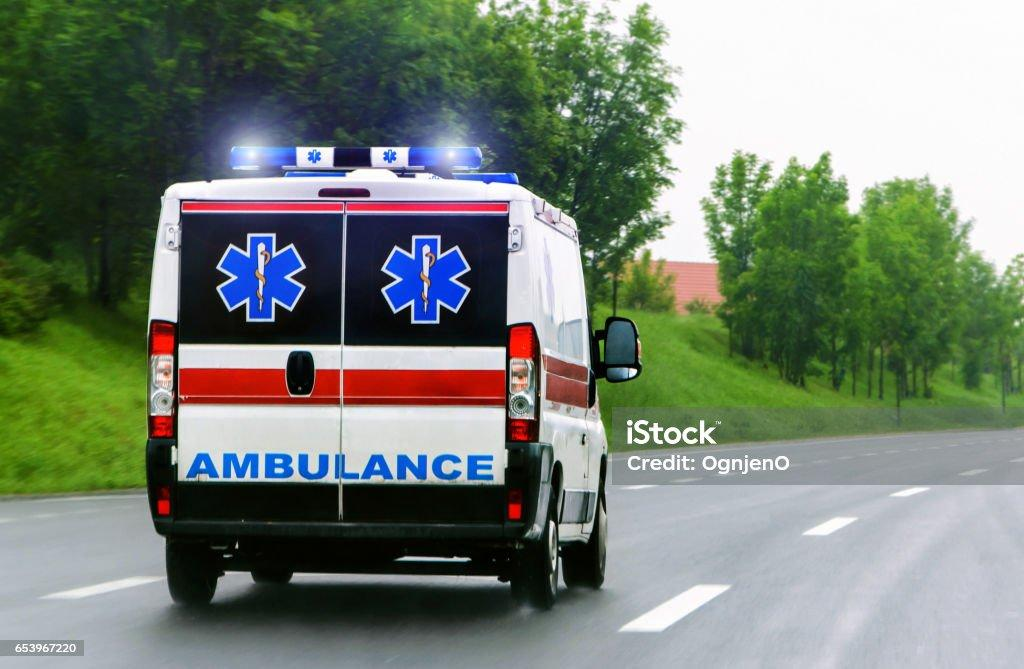ambulance_on: (144, 140, 640, 613)
